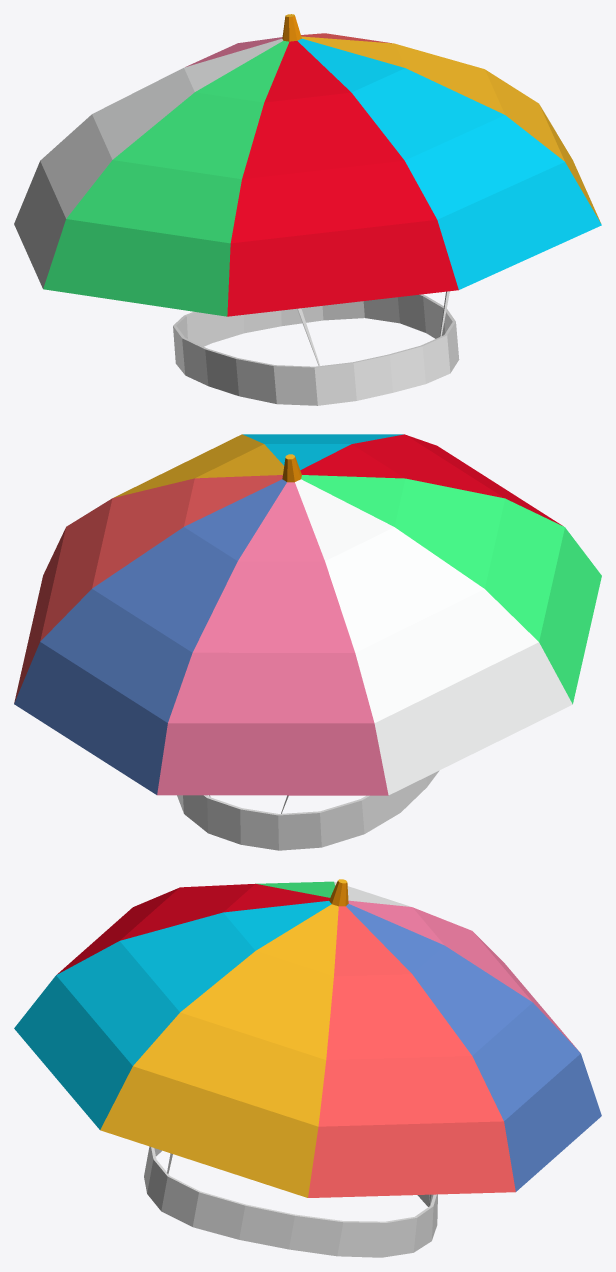
File: Umbrella_Hat.glb
3 views of the same model, one above another, from view 1: azimuth 30°, elevation 25°; view 2: azimuth 150°, elevation 25°; view 3: azimuth 270°, elevation 25° (orthographic). The views are drawn at different scales.
Parts seen in each view (by area): view 1: Umbrella_Hat; view 2: Umbrella_Hat; view 3: Umbrella_Hat.
Boxes of the visible parts, bbox=[...] form: Umbrella_Hat: bbox=[14, 14, 601, 405]; Umbrella_Hat: bbox=[14, 434, 601, 850]; Umbrella_Hat: bbox=[14, 879, 601, 1257].
Size of what is drawn, in the model's own units: 1.45 by 0.9215 by 1.43.
Materials: 1 (1 with a texture image).
